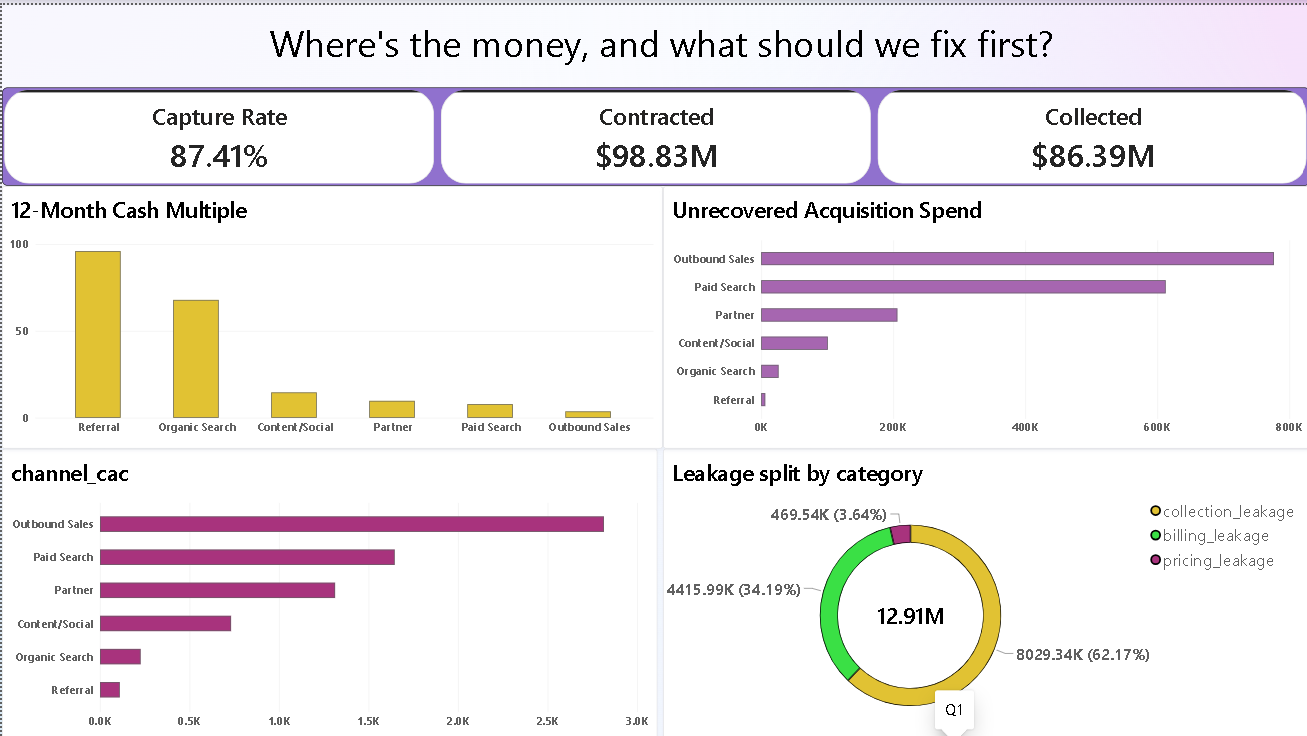

What the dashboard file says about the page in this screenshot:
{"tool":"powerbi","page":{"name":"Q1","canvas":[1920,1080],"ordinal":5},"visuals":[{"type":"cardVisual","fields":{"Data":["Revenue_capture_rate.Capture Rate %","Sum(Revenue_capture_rate.total_contracted)","Sum(Revenue_capture_rate.total_collected)"]},"box":[0,121.4,1920.4,144.1],"z":0},{"type":"donutChart","title":"Leakage split by category","fields":{"Category":["Leakage_mix.Category"],"Y":["Sum(Leakage_mix.Leakage Amount)"]},"box":[969.5,650.4,950.9,430.2],"z":3000},{"type":"textbox","box":[16.5,0,1904,100.9],"z":4000},{"type":"clusteredBarChart","title":"channel_cac","fields":{"Category":["channel_cac.channel"],"Y":["channel_cac.Channel CAC"]},"box":[0,650.4,961.2,430.2],"z":5000},{"type":"clusteredColumnChart","title":"12-Month Cash Multiple","fields":{"Category":["customer_12mo_cash_multiple.channel"],"Y":["Avg(customer_12mo_cash_multiple.cash_multiple_12mo)"]},"box":[0,265.5,969.5,384.9],"z":6000},{"type":"clusteredBarChart","title":"Unrecovered Acquisition Spend","fields":{"Category":["unrecovered_acquisition_spend.channel"],"Y":["Sum(unrecovered_acquisition_spend.cac_per_customer)"]},"box":[969.5,265.5,950.9,384.9],"z":7000}]}

Visuals, with their boxes in screenshot pixels (x1, y1, x2, y2), scaled from the page's 1920x1080 canvas onto the 1307x736 screenshot:
cardVisual - Revenue_capture_rate.Capture Rate % x Sum(Revenue_capture_rate.total_contracted): crop(0, 83, 1306, 181)
"Leakage split by category" donutChart: crop(660, 443, 1306, 735)
textbox: crop(11, 0, 1306, 69)
"channel_cac" clusteredBarChart: crop(0, 443, 654, 735)
"12-Month Cash Multiple" clusteredColumnChart: crop(0, 181, 660, 443)
"Unrecovered Acquisition Spend" clusteredBarChart: crop(660, 181, 1306, 443)
